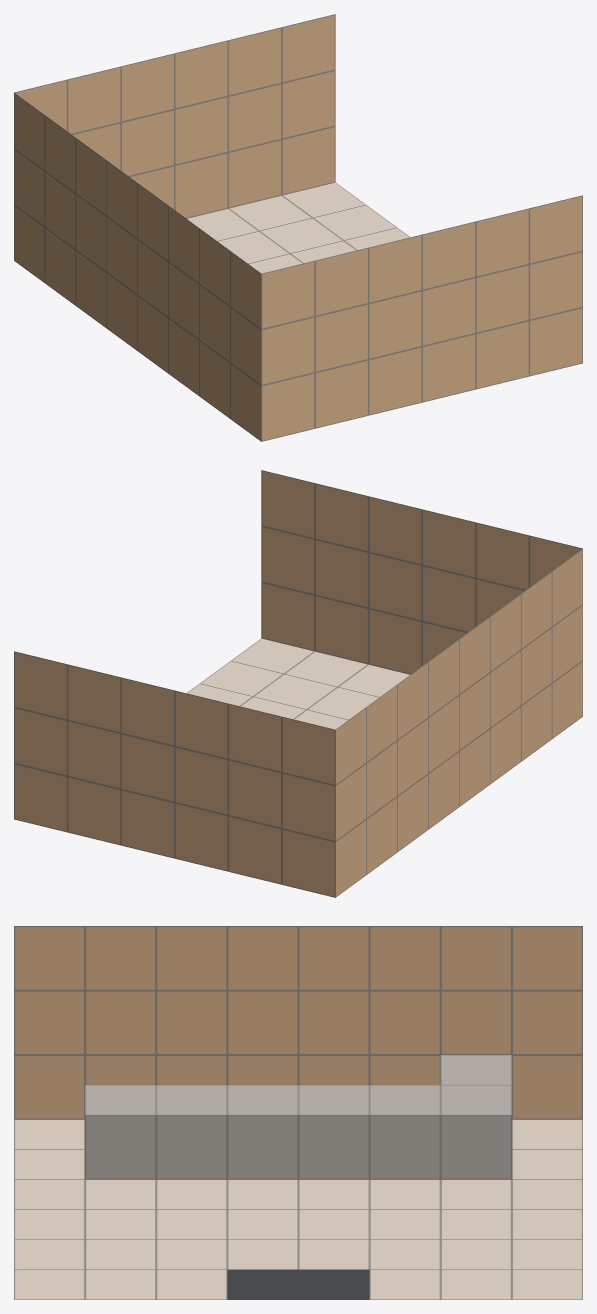
Rendered from PostOffice.dae.
3 views of the same model, one above another, from view 1: azimuth 30°, elevation 25°; view 2: azimuth 150°, elevation 25°; view 3: azimuth 270°, elevation 25° (orthographic). The views are drawn at different scales.
Parts seen in each view (by area): view 1: PostOffice-col; view 2: PostOffice-col; view 3: PostOffice-col.
Boxes of the visible parts, box(x1,y1,x2,y2) form: PostOffice-col: box(14, 14, 582, 441); PostOffice-col: box(14, 470, 582, 897); PostOffice-col: box(14, 926, 582, 1299).
Bounding box in the file's own units: 5.81 × 7.75 × 2.91.
Materials: 1 (1 with a texture image).
